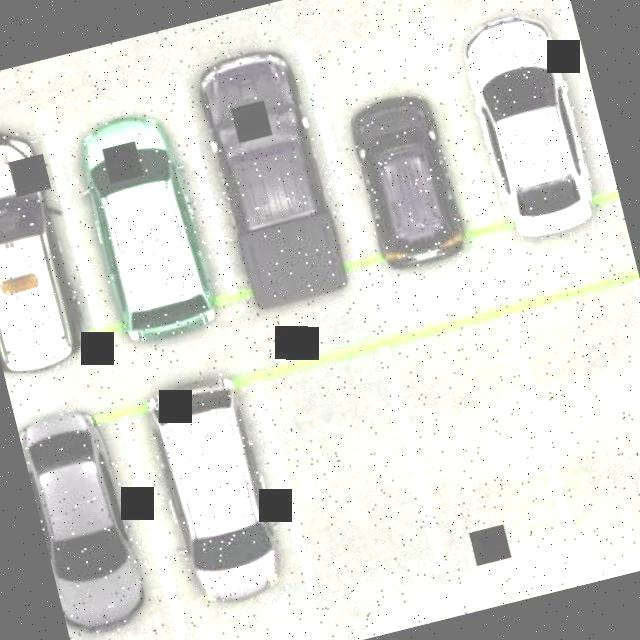car: (186, 37, 362, 320), (126, 355, 292, 621), (450, 0, 608, 245), (72, 105, 224, 341), (17, 406, 148, 639), (0, 110, 93, 373), (345, 95, 469, 278)
free: (263, 346, 449, 622), (391, 318, 570, 578), (516, 281, 640, 556)
